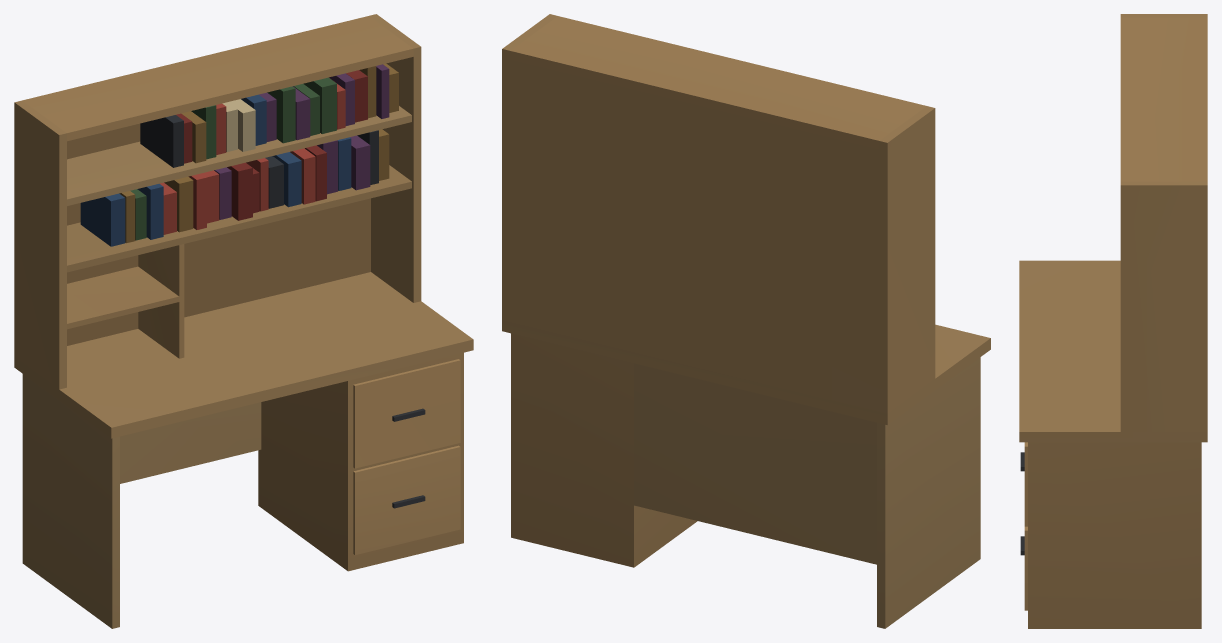
File: table.desk_hutch.pine.glb
3 views of the same model, side by side, from view 1: azimuth 30°, elevation 25°; view 2: azimuth 150°, elevation 25°; view 3: azimuth 270°, elevation 25° (orthographic). The views are drawn at different scales.
Visible parts, largest first — view 1: table_desk_hutch_pine; view 2: table_desk_hutch_pine; view 3: table_desk_hutch_pine.
Part boxes in pixels (x1,y1,x2,y2): table_desk_hutch_pine: [14, 14, 473, 628]; table_desk_hutch_pine: [502, 14, 990, 628]; table_desk_hutch_pine: [1019, 14, 1207, 628].
Size of what is drawn, in the model's own units: 1.4 by 1.7 by 0.65.
